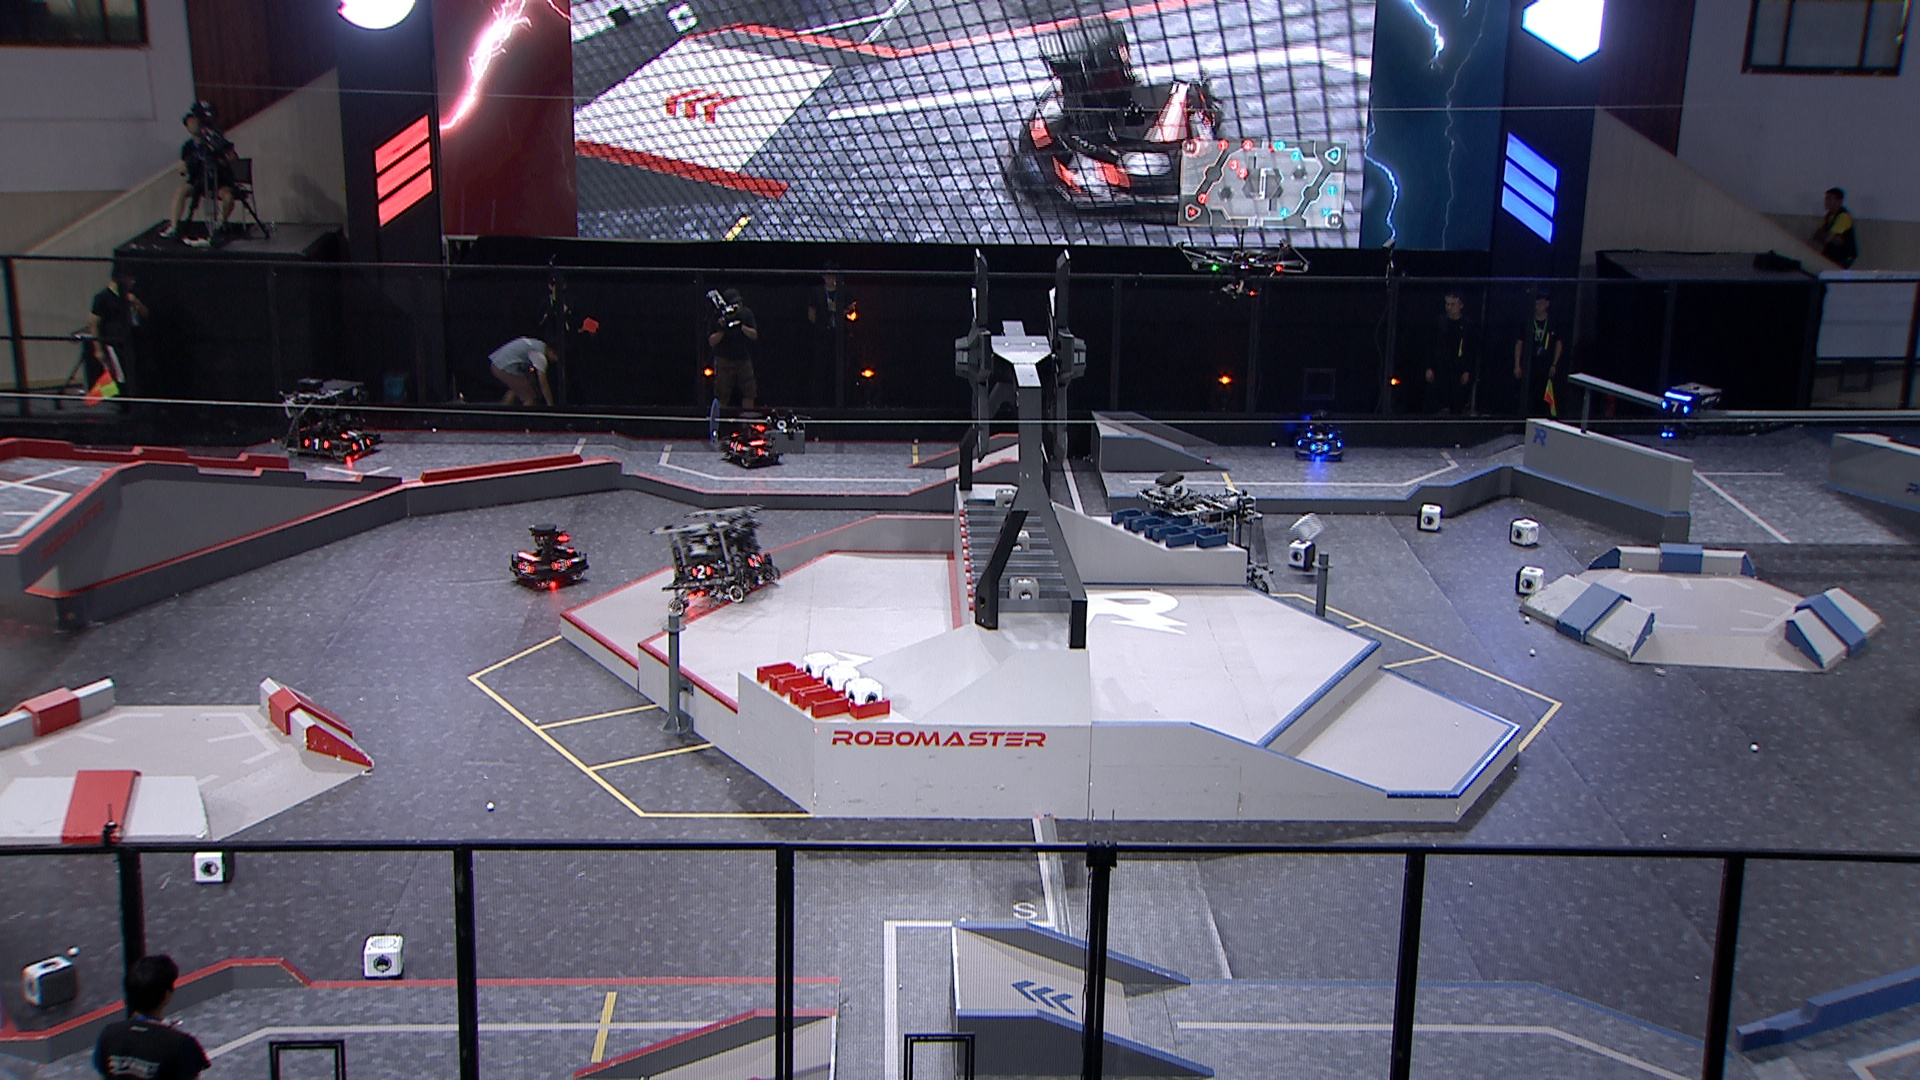armor: (301, 434, 334, 454), (1659, 398, 1692, 417), (686, 560, 712, 580), (349, 433, 372, 454), (338, 425, 363, 442), (514, 559, 535, 579), (551, 555, 572, 574), (1305, 429, 1335, 440), (745, 551, 766, 567), (1309, 440, 1331, 455), (555, 541, 580, 553), (728, 439, 744, 452)
car: (1135, 485, 1276, 603), (659, 500, 789, 618), (277, 376, 386, 462), (504, 522, 591, 593), (719, 410, 787, 471), (1294, 410, 1348, 463)
ignore: (1007, 15, 1225, 219)
watcher: (1651, 377, 1722, 439)
